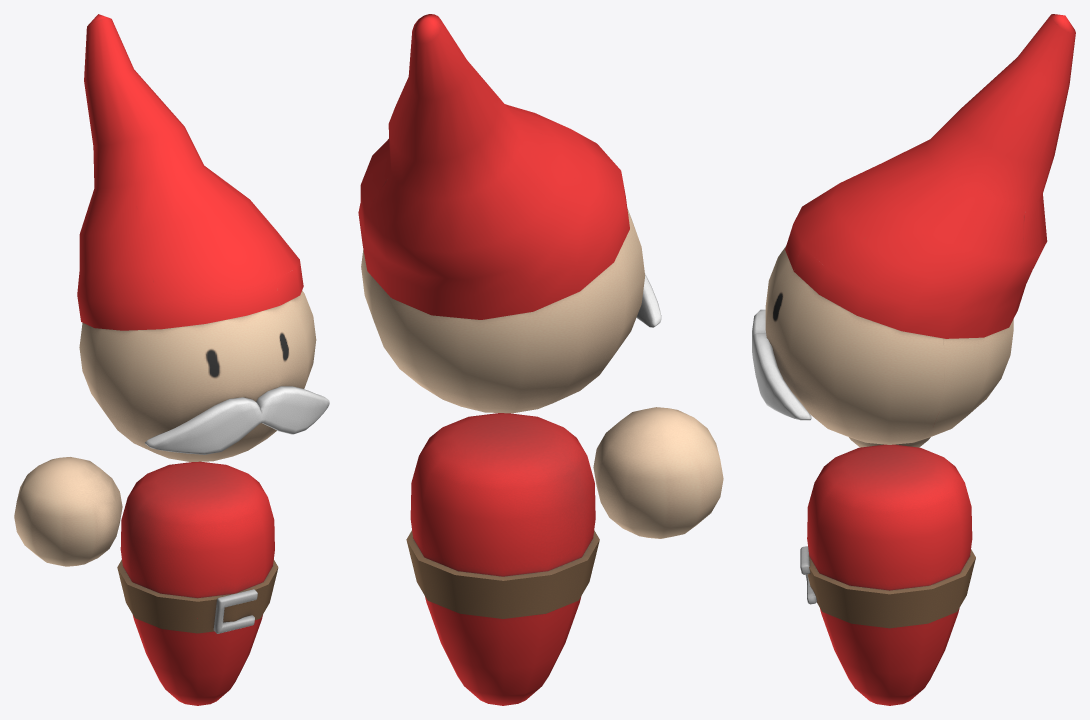
File: kobitored.fbx
3 renders of one model, left to right at view 1: azimuth 30°, elevation 25°; view 2: azimuth 150°, elevation 25°; view 3: azimuth 270°, elevation 25°, orthographic. The views are drawn at different scales.
Visible parts, largest first — view 1: bousi, body, head, hand, hige, beruto; view 2: bousi, body, head, hand, beruto, hige; view 3: bousi, body, head, beruto, hige.
Part boxes in pixels (bbox=[...]): bousi: bbox=[77, 14, 303, 330]; body: bbox=[120, 461, 274, 705]; head: bbox=[79, 290, 316, 461]; hand: bbox=[14, 457, 122, 566]; hige: bbox=[145, 386, 329, 454]; beruto: bbox=[117, 559, 278, 633]; bousi: bbox=[358, 14, 629, 319]; body: bbox=[410, 413, 595, 705]; head: bbox=[361, 208, 645, 413]; hand: bbox=[593, 407, 723, 538]; beruto: bbox=[406, 530, 599, 618]; hige: bbox=[636, 274, 661, 327]; bousi: bbox=[785, 14, 1075, 338]; body: bbox=[807, 444, 972, 705]; head: bbox=[765, 246, 1013, 444]; beruto: bbox=[800, 546, 975, 628]; hige: bbox=[752, 309, 811, 420].
Size of the model in its own units: 0.4077 by 0.8879 by 0.3842.
